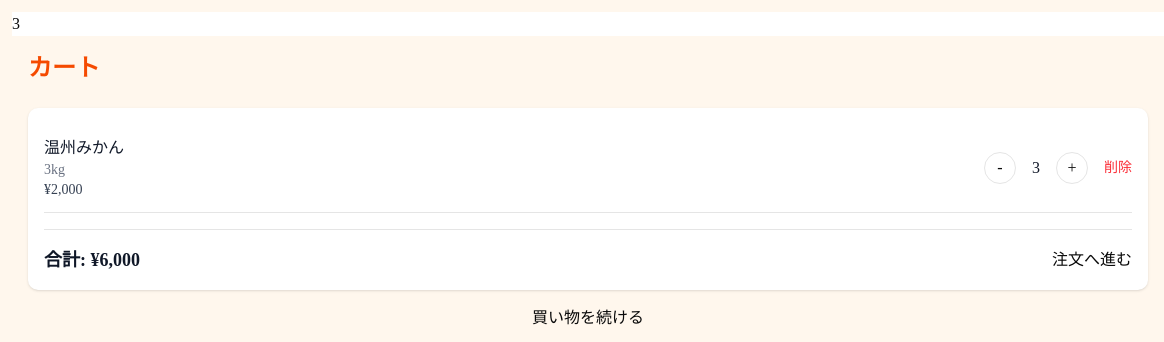
Test: CartContent › 商品削除時のカウント更新 › removeCartItemByVariant 成功時にカウントが quantity 分減る
Click the button "削除".
click(1118, 168)  # box [1104,158,1132,178]
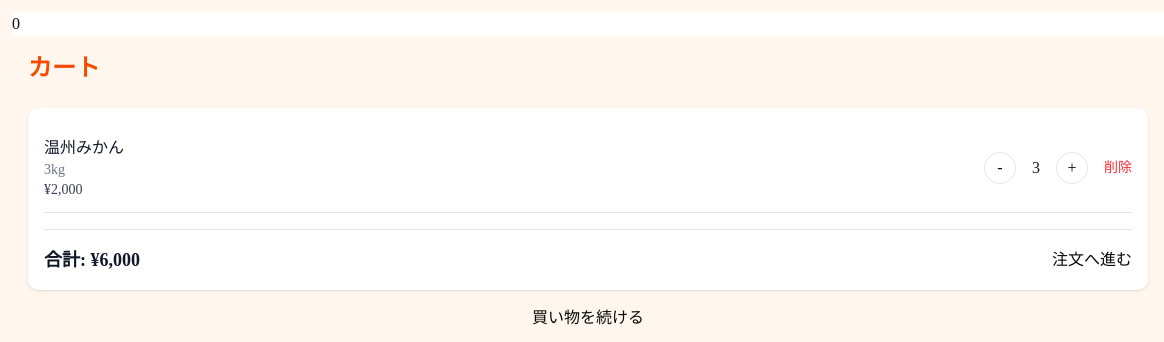
Now the text with test id "cart-count" reads "0", box [12,15,20,32]
